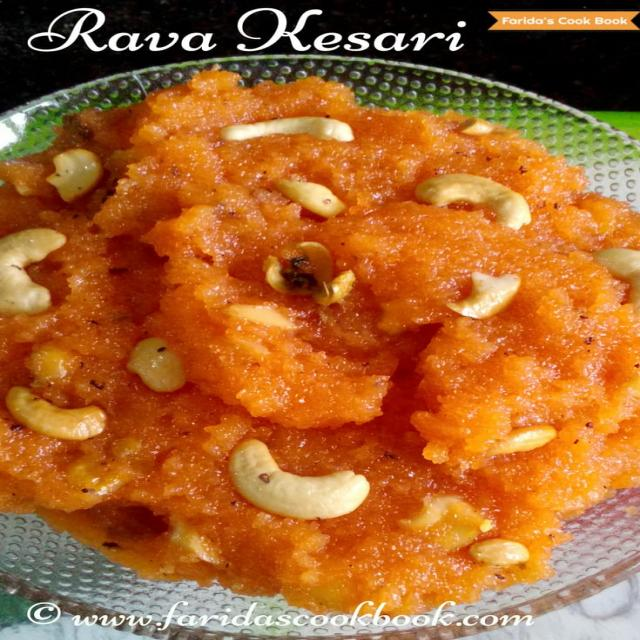kesari bath: (0, 57, 640, 622)
